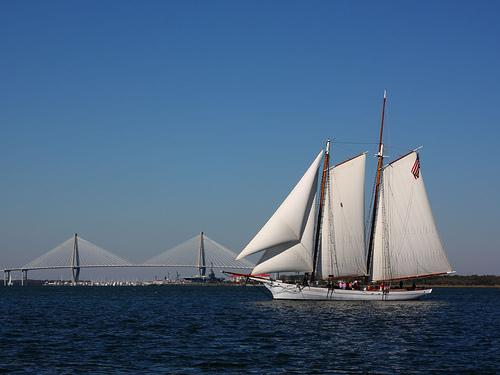Ship: (237, 89, 457, 303)
